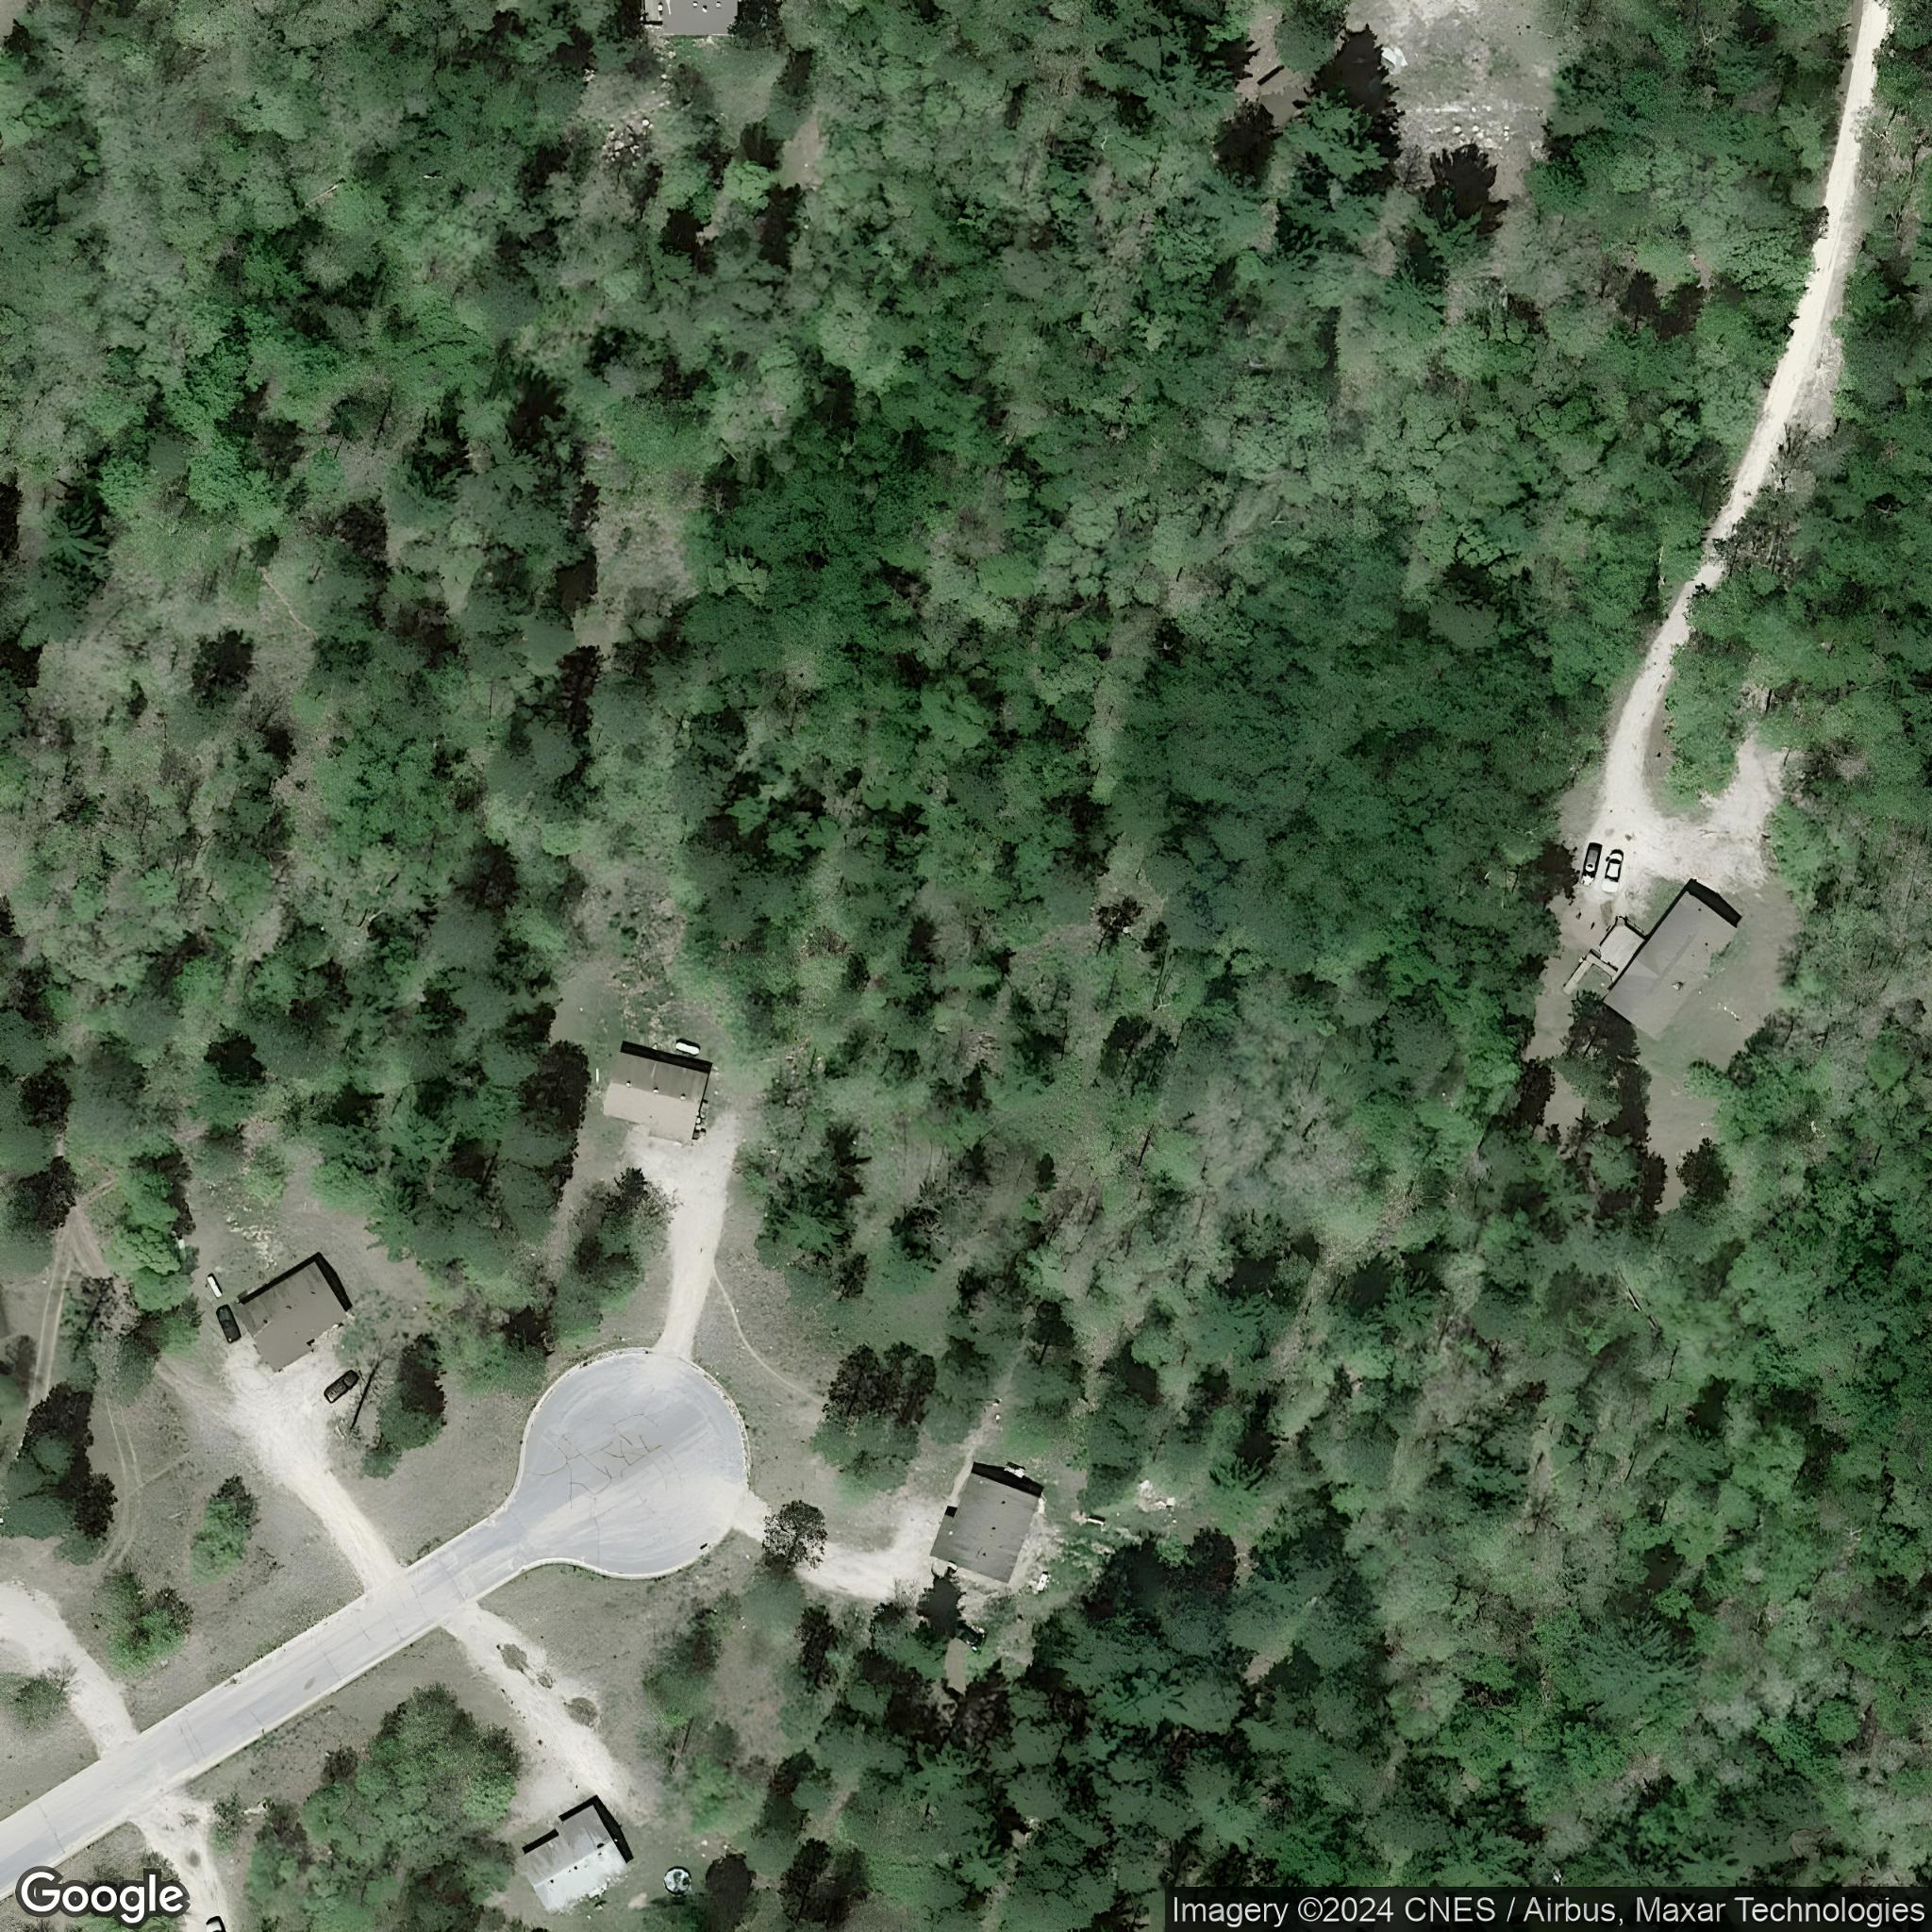House: (1601, 890, 1739, 1042), (235, 1258, 350, 1376), (518, 1803, 630, 1918), (929, 1472, 1039, 1585), (600, 1051, 711, 1148), (660, 2, 741, 35)
Propane: (203, 1272, 225, 1300), (674, 1035, 702, 1056), (1031, 1568, 1053, 1596)
